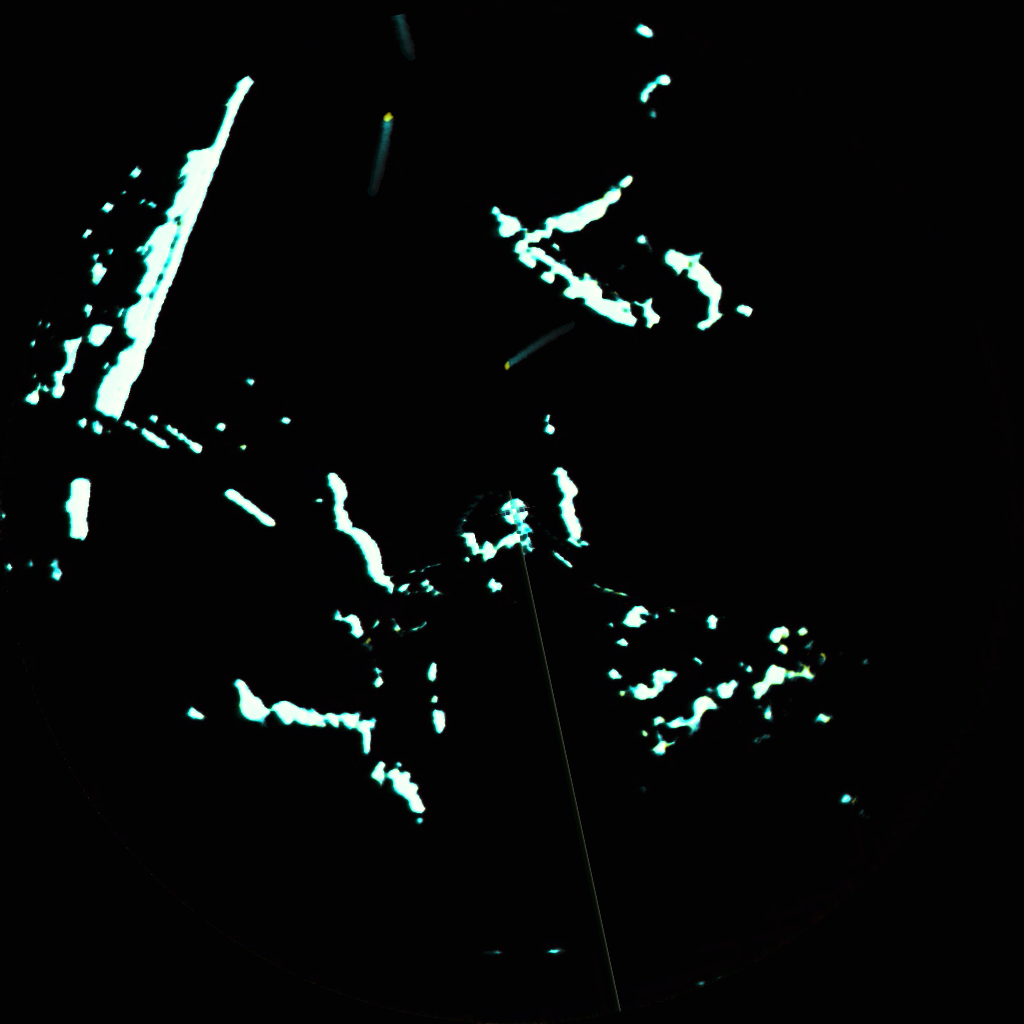B: (502, 337, 547, 370), (376, 109, 394, 172)
